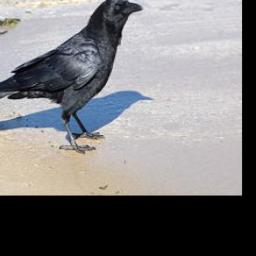Crow: (0, 0, 144, 154)
